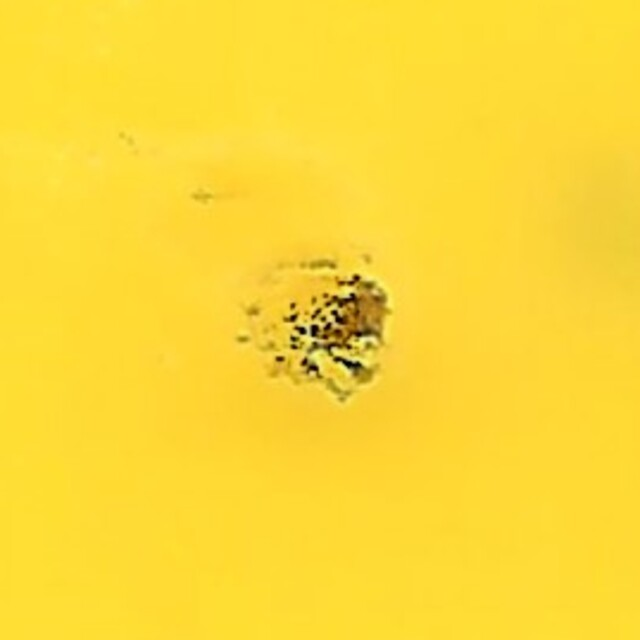Araneae: (238, 242, 402, 398)
